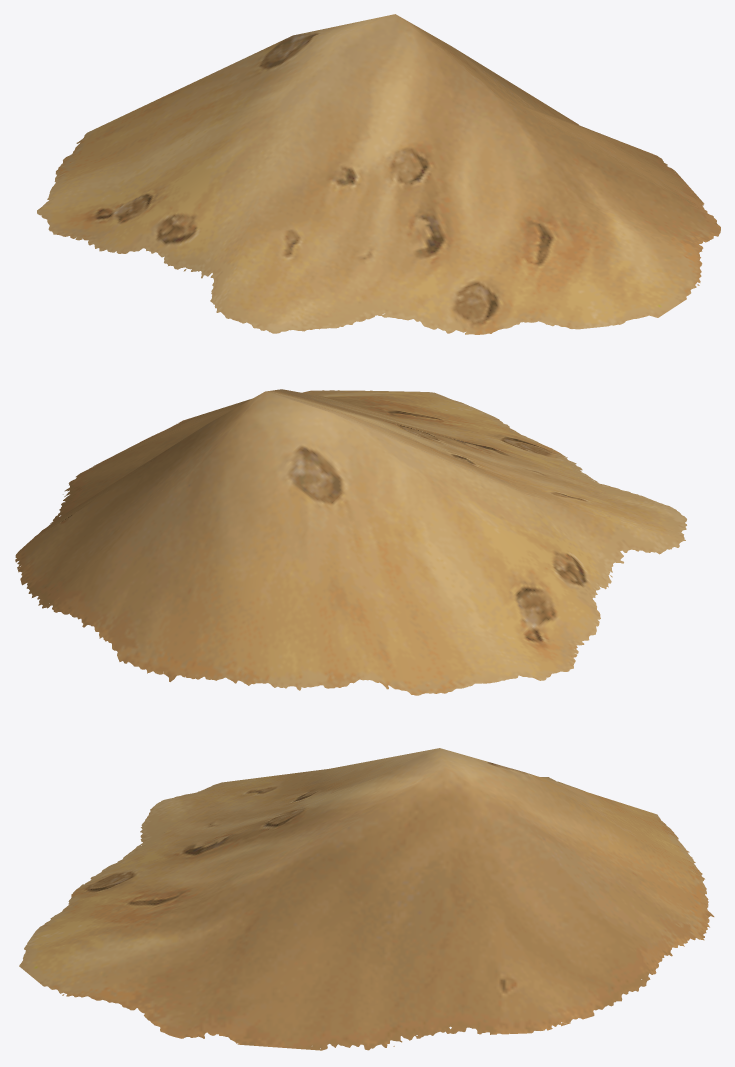
File: sm_shanpo_1.FBX
The picture shows the model from 3 angles, top to bottom: view 1: azimuth 30°, elevation 25°; view 2: azimuth 150°, elevation 25°; view 3: azimuth 270°, elevation 25°; orthographic projection. The views are drawn at different scales.
Visible parts, largest first — view 1: sm_shanpo_1; view 2: sm_shanpo_1; view 3: sm_shanpo_1.
Part boxes in pixels (left/top/right/bottom): sm_shanpo_1: left=37, top=14, right=720, bottom=334; sm_shanpo_1: left=15, top=389, right=686, bottom=695; sm_shanpo_1: left=19, top=748, right=714, bottom=1050.
Size of the model in its own units: 1022 by 295 by 1100.
